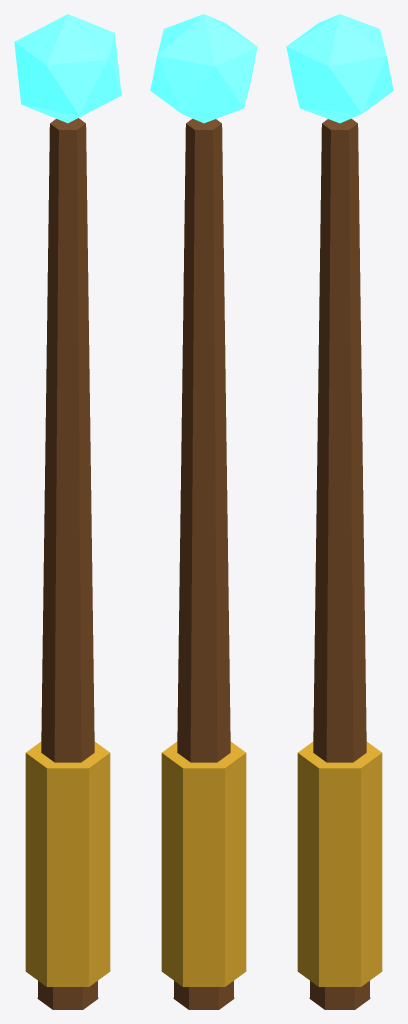
The model's file is wand.fbx.
3 renders of one model, left to right at view 1: azimuth 30°, elevation 25°; view 2: azimuth 210°, elevation 25°; view 3: azimuth 330°, elevation 25°, orthographic.
Visible parts, largest first — view 1: wand; view 2: wand; view 3: wand.
Boxes of the visible parts, <box> form: wand: <box>14,14,121,1009</box>; wand: <box>150,14,257,1009</box>; wand: <box>286,14,393,1009</box>.
Size of the model in its own units: 0.0358 by 0.36 by 0.034.
